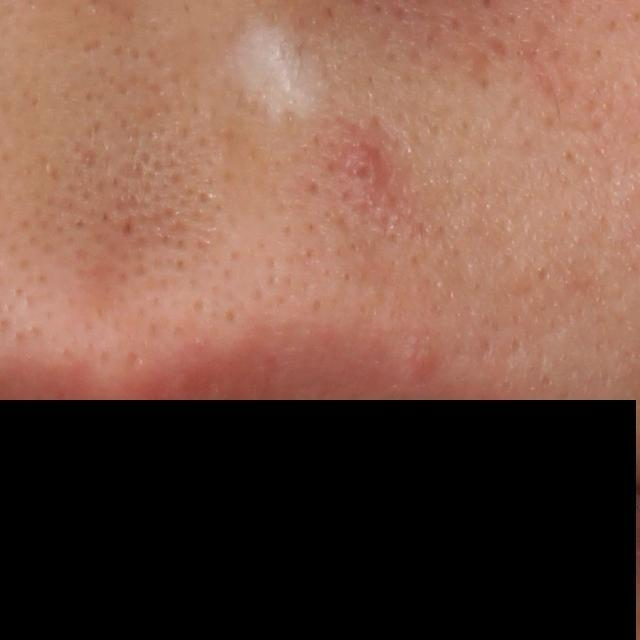other: (225, 12, 337, 122)
papule: (340, 130, 399, 201)
